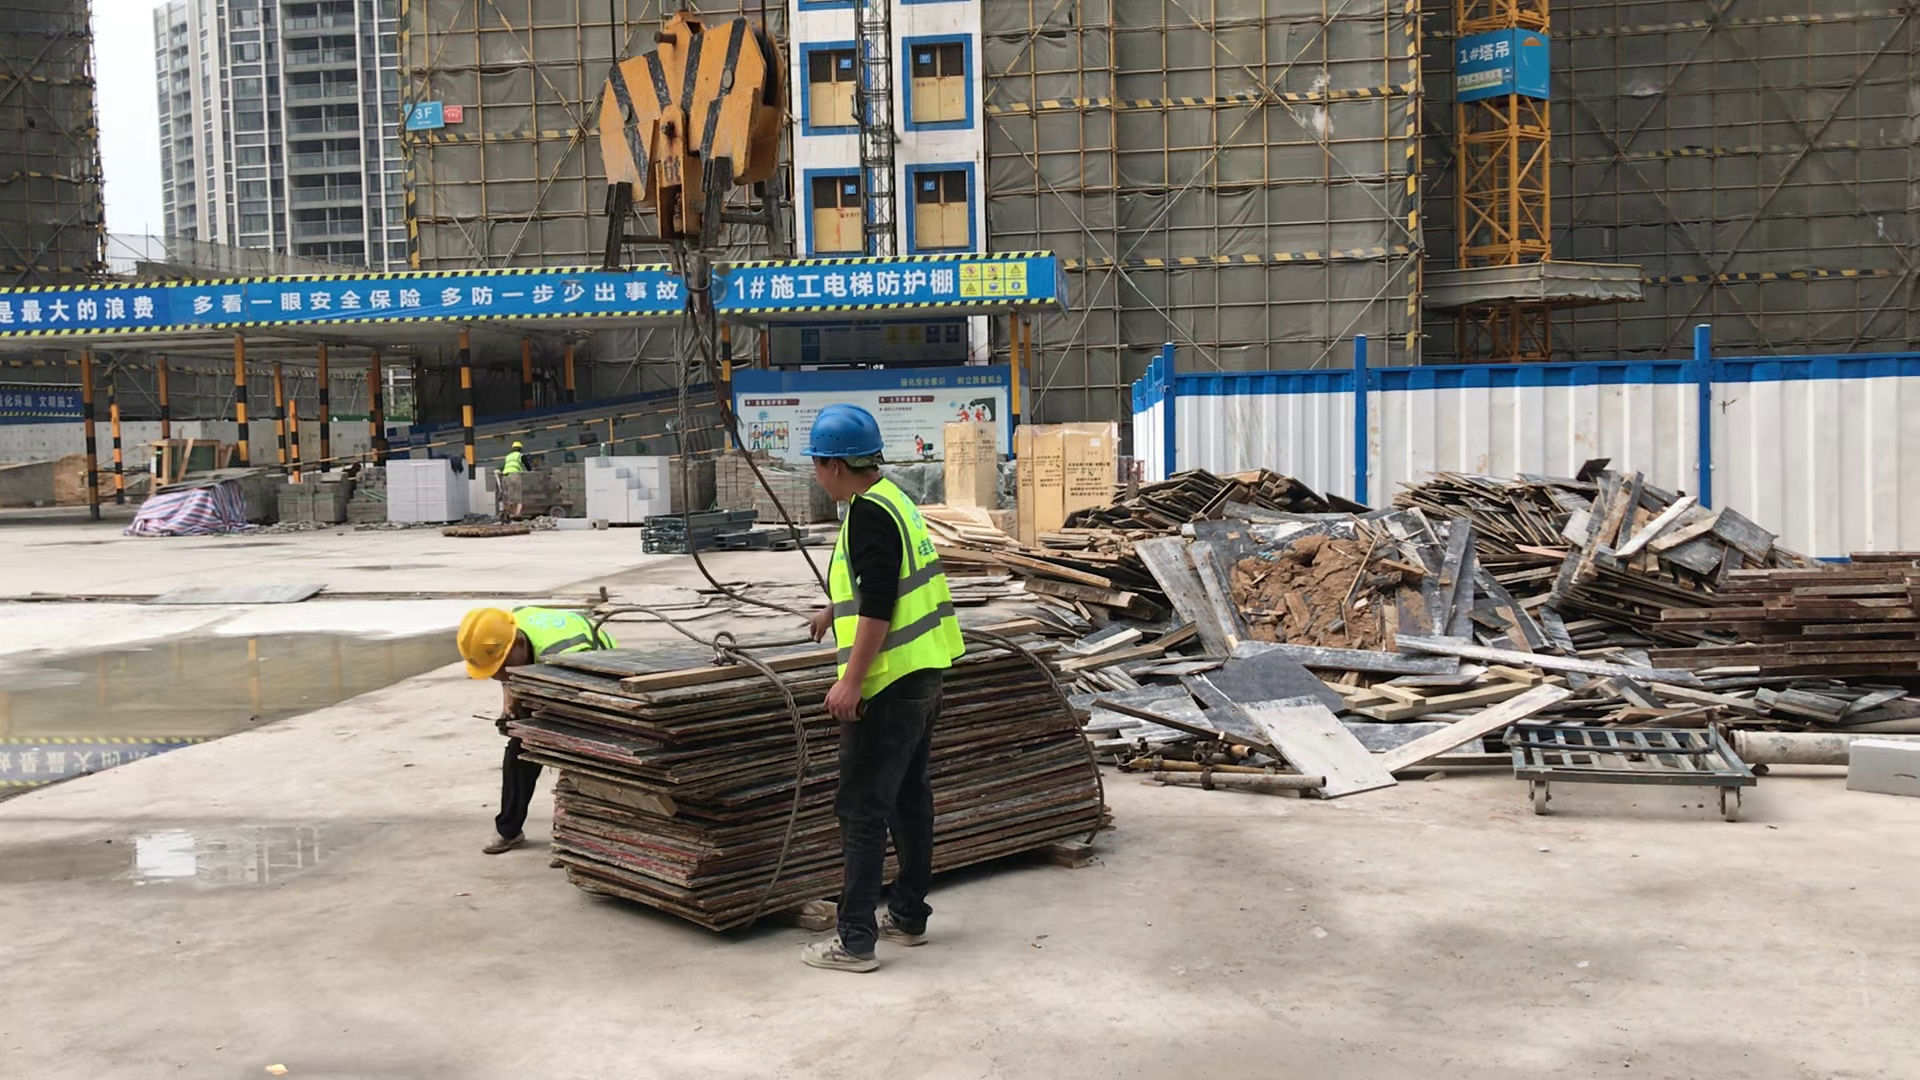board: (499, 631, 1113, 930)
brick: (383, 458, 496, 524), (584, 453, 669, 526)
helmet: (799, 409, 885, 460), (458, 606, 515, 680), (510, 442, 523, 449)
hook: (600, 13, 789, 312)
person: (797, 404, 958, 975), (451, 604, 619, 857), (497, 439, 528, 476)
slogan: (4, 277, 683, 324), (960, 259, 1027, 298), (1457, 67, 1511, 91)
vest: (815, 480, 958, 709), (521, 609, 611, 671), (503, 451, 524, 474)
